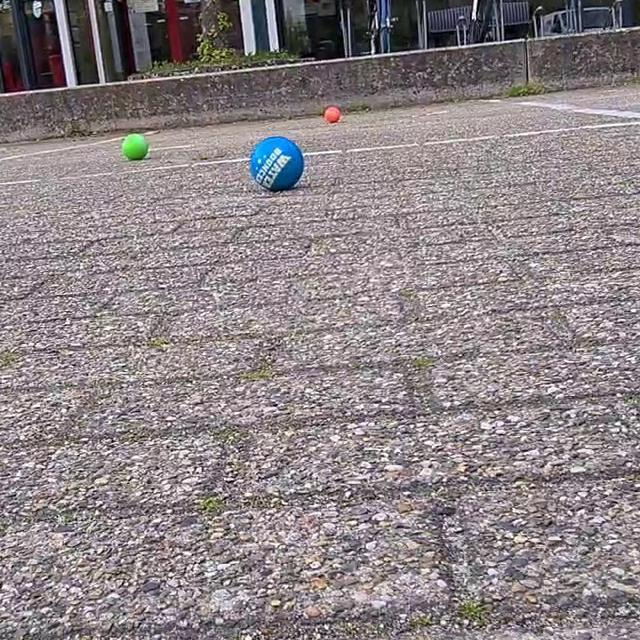ball: (119, 129, 152, 162), (322, 100, 342, 127)
